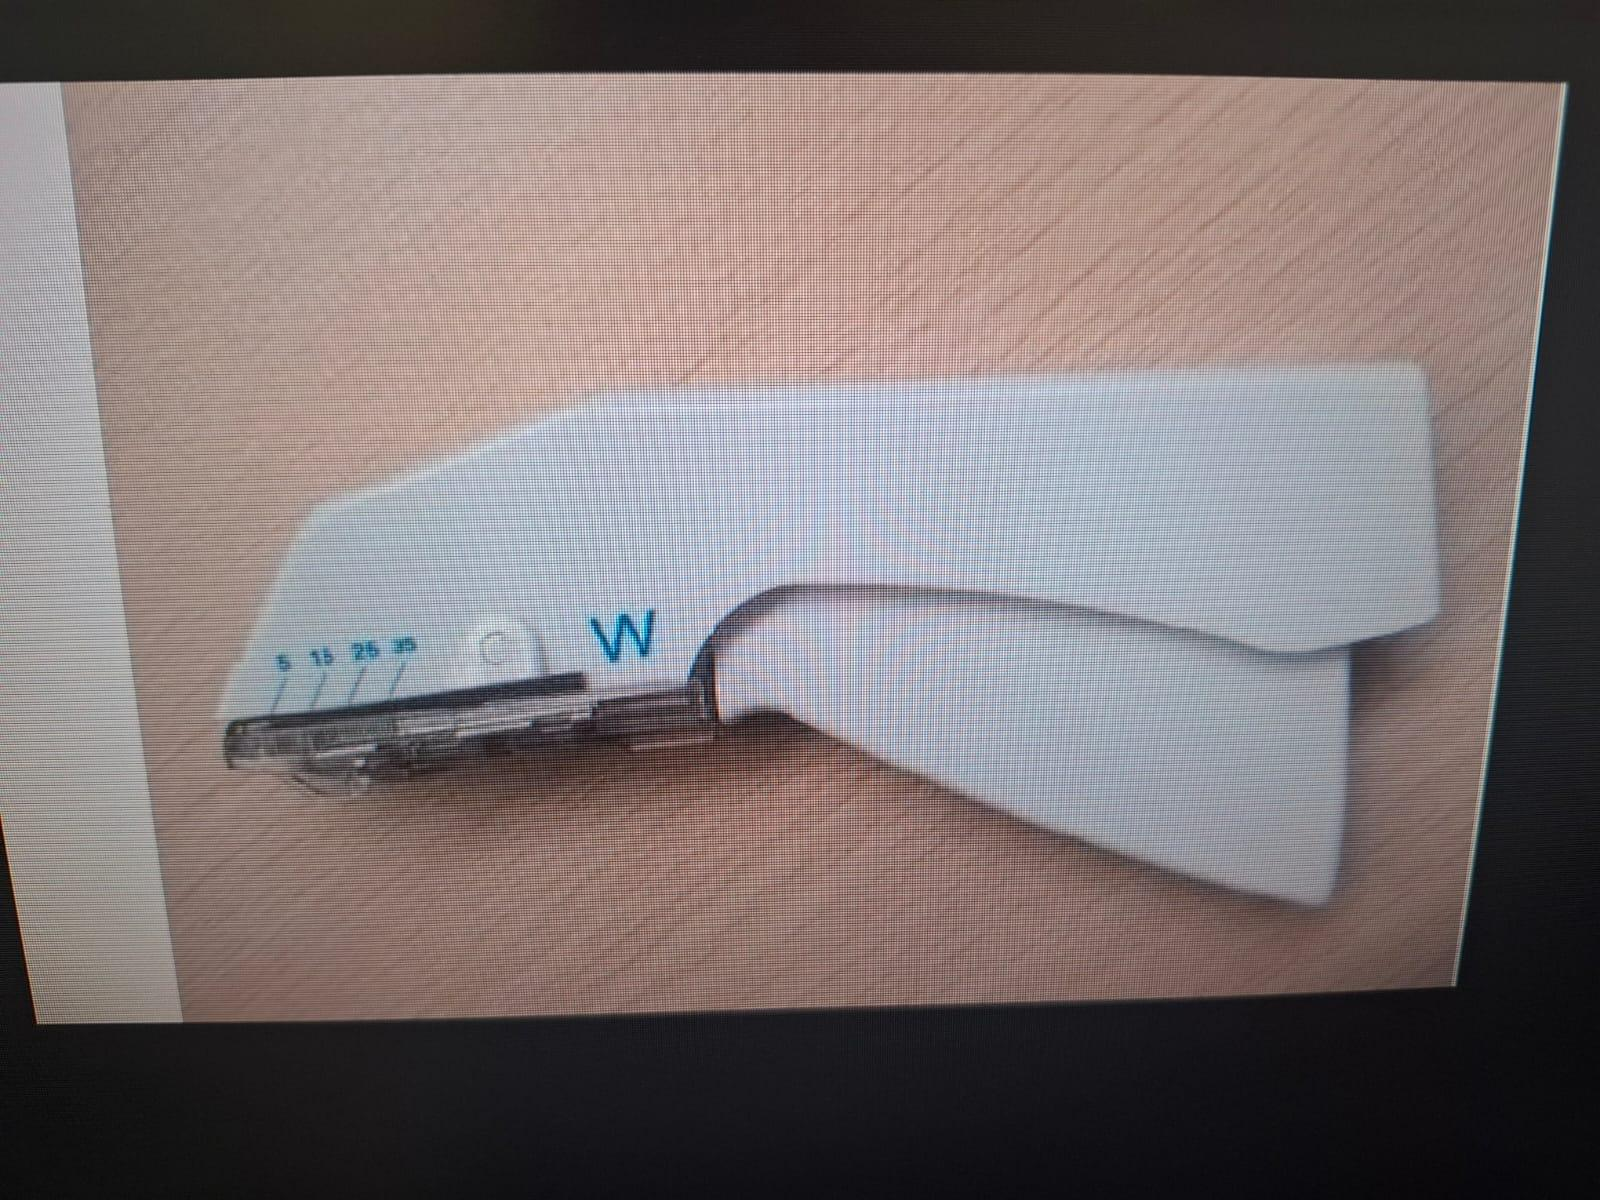Skin Stapler: (202, 362, 1453, 916)
